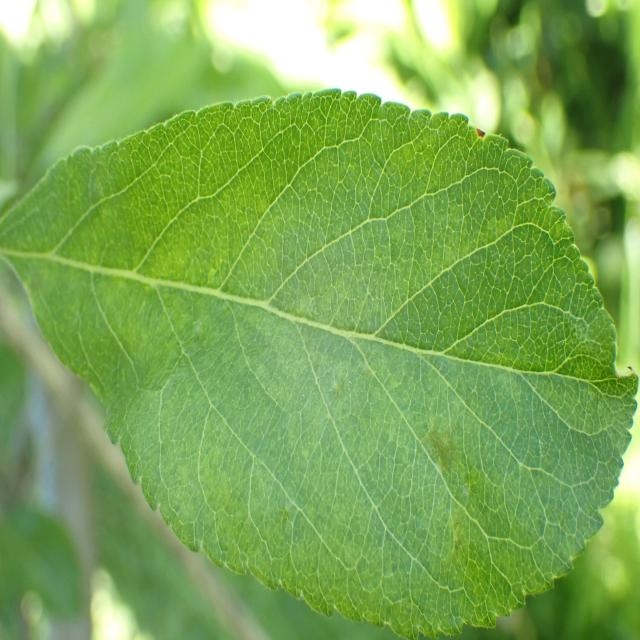scab: (85, 148, 576, 592)
